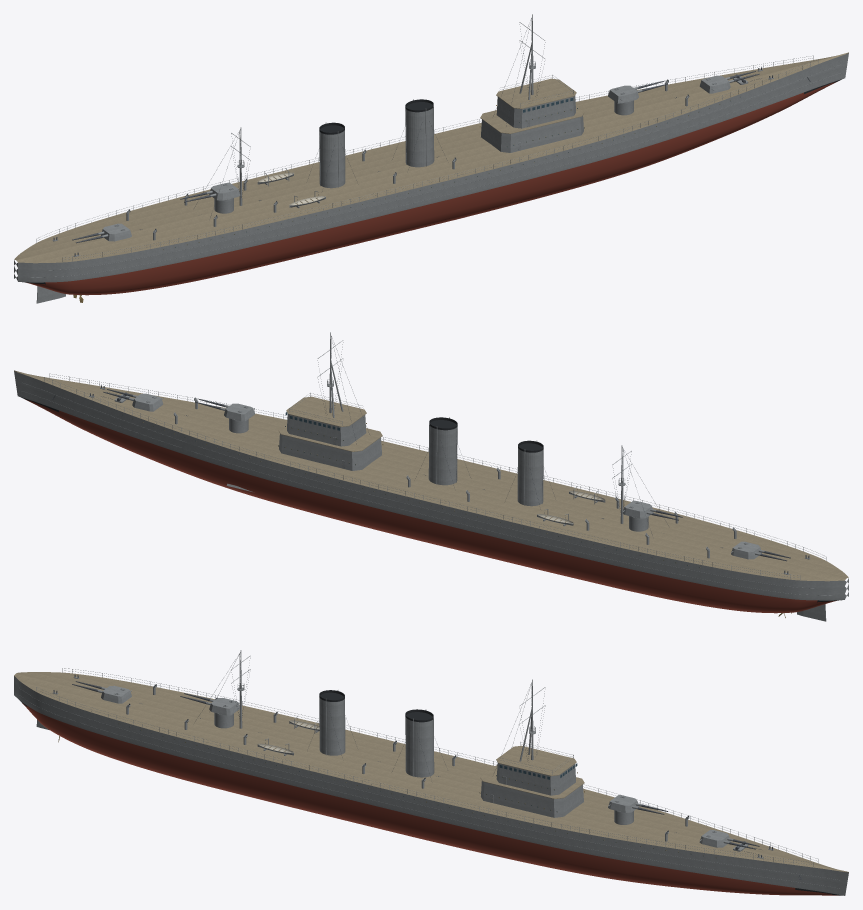
File: fallback-ca.glb
3 renders of one model, top to bottom at view 1: azimuth 30°, elevation 25°; view 2: azimuth 150°, elevation 25°; view 3: azimuth 330°, elevation 25°, orthographic.
Visible parts, largest first — view 1: Original CA custom-design concept; view 2: Original CA custom-design concept; view 3: Original CA custom-design concept.
Boxes of the visible parts, x1=… form: Original CA custom-design concept: x1=14, y1=14, x2=848, y2=303; Original CA custom-design concept: x1=14, y1=332, x2=848, y2=621; Original CA custom-design concept: x1=14, y1=650, x2=848, y2=895.
Bounding box in the file's own units: 188 × 36.8 × 20.09.
8 materials, 2 textured.
